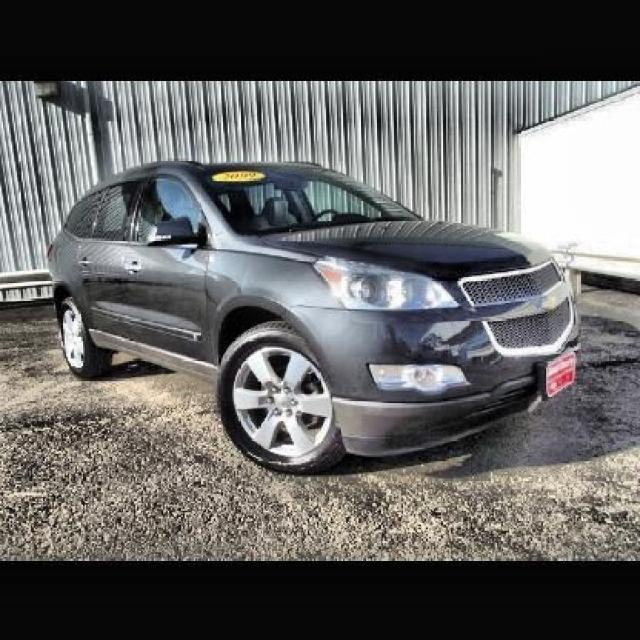black: (46, 153, 562, 456)
